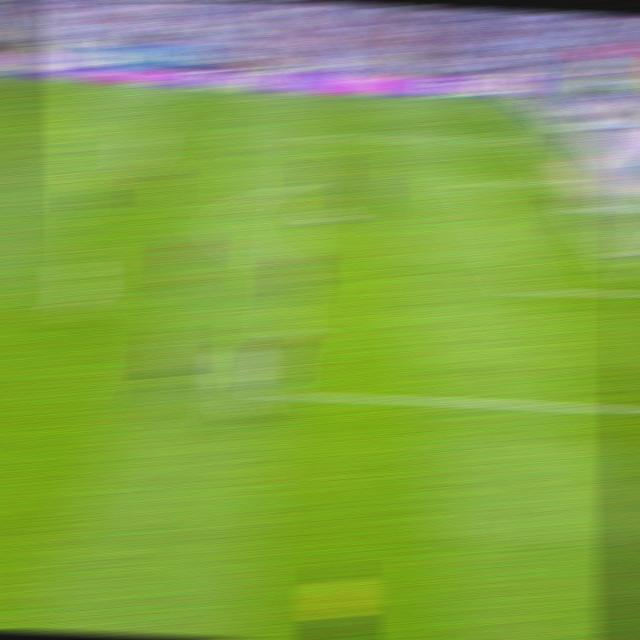bigarea_bottom_inner: (508, 276, 540, 301)
bigarea_top_inner: (462, 176, 490, 189)
bigarea_top_outter: (518, 134, 547, 147)
corner: (489, 98, 520, 108)
smallarea_top_outter: (549, 173, 578, 188)
